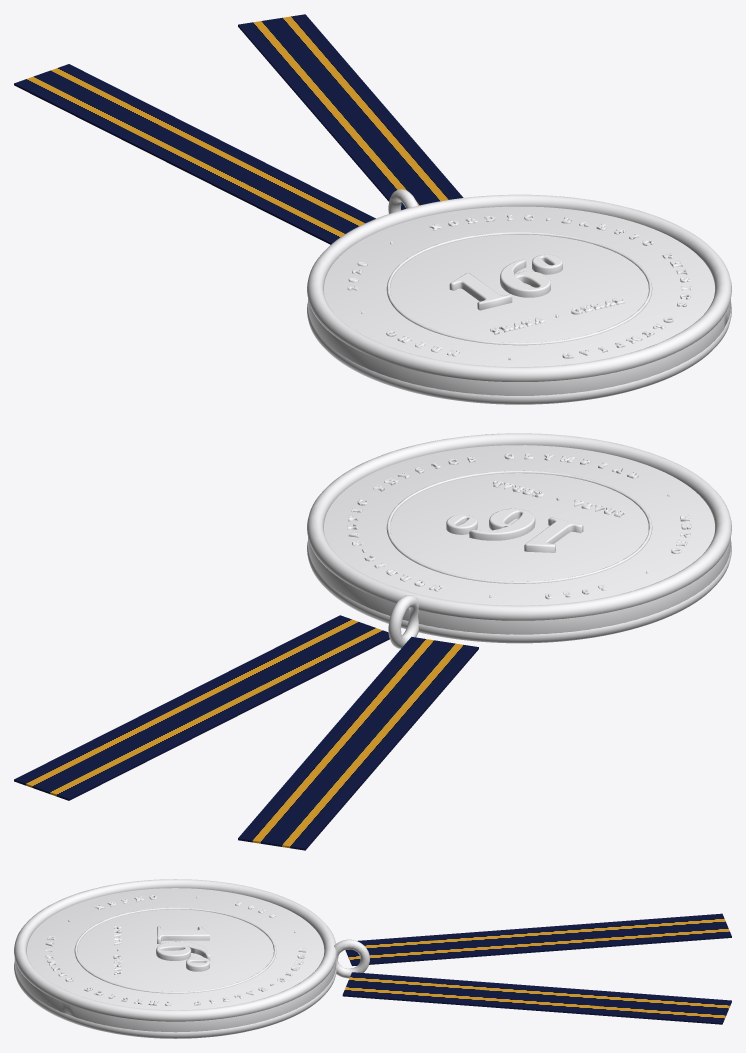
The model's file is medal-silver-pt.glb.
3 views of the same model, one above another, from view 1: azimuth 30°, elevation 25°; view 2: azimuth 150°, elevation 25°; view 3: azimuth 270°, elevation 25° (orthographic). The views are drawn at different scales.
Parts seen in each view (by area): view 1: field, ribbon, relief; view 2: field, ribbon, relief; view 3: field, ribbon, relief.
Part boxes in pixels (bbox=[...]): field: bbox=[308, 206, 730, 395]; ribbon: bbox=[14, 14, 463, 244]; relief: bbox=[307, 189, 731, 404]; field: bbox=[308, 445, 730, 634]; ribbon: bbox=[14, 615, 478, 850]; relief: bbox=[307, 433, 731, 648]; field: bbox=[14, 888, 336, 1032]; ribbon: bbox=[342, 913, 731, 1024]; relief: bbox=[14, 879, 369, 1038].
Size of the model in its own units: 2.01 by 0.2598 by 4.47.
3 materials, 1 textured.
